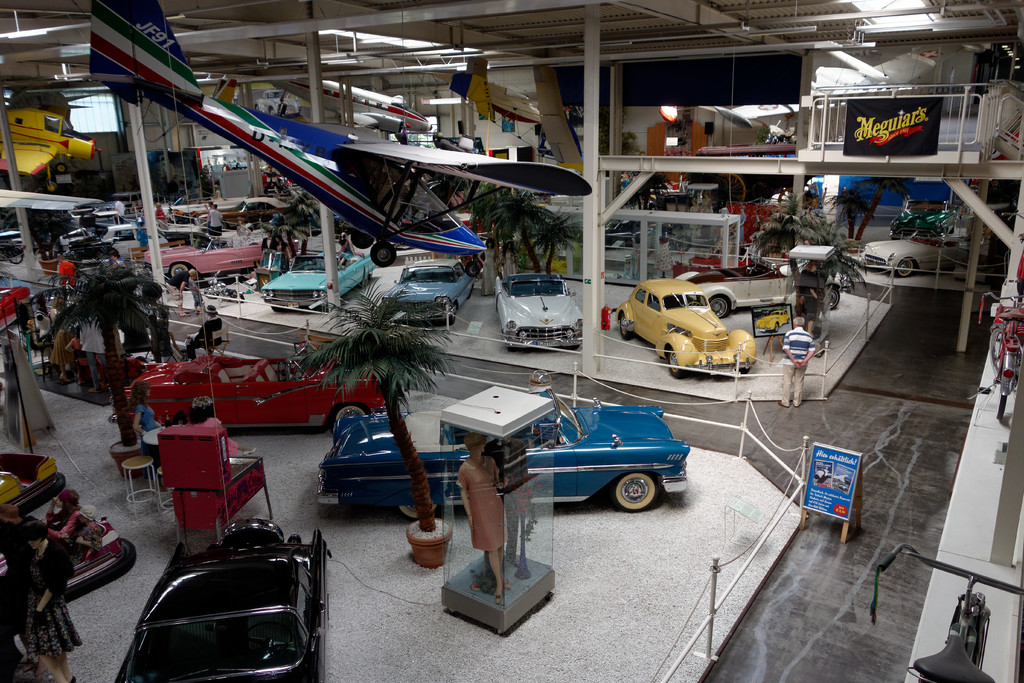Tree: (278, 265, 452, 532), (25, 239, 178, 449), (793, 205, 879, 316), (468, 184, 550, 274), (745, 191, 804, 284), (851, 176, 910, 242), (528, 203, 581, 273), (818, 184, 876, 233), (254, 217, 309, 265), (282, 193, 317, 229), (0, 240, 23, 287)
